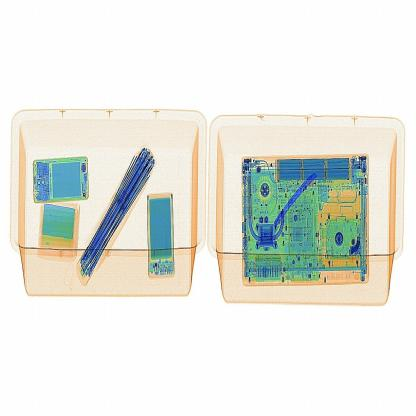pliers: (269, 164, 334, 232)
